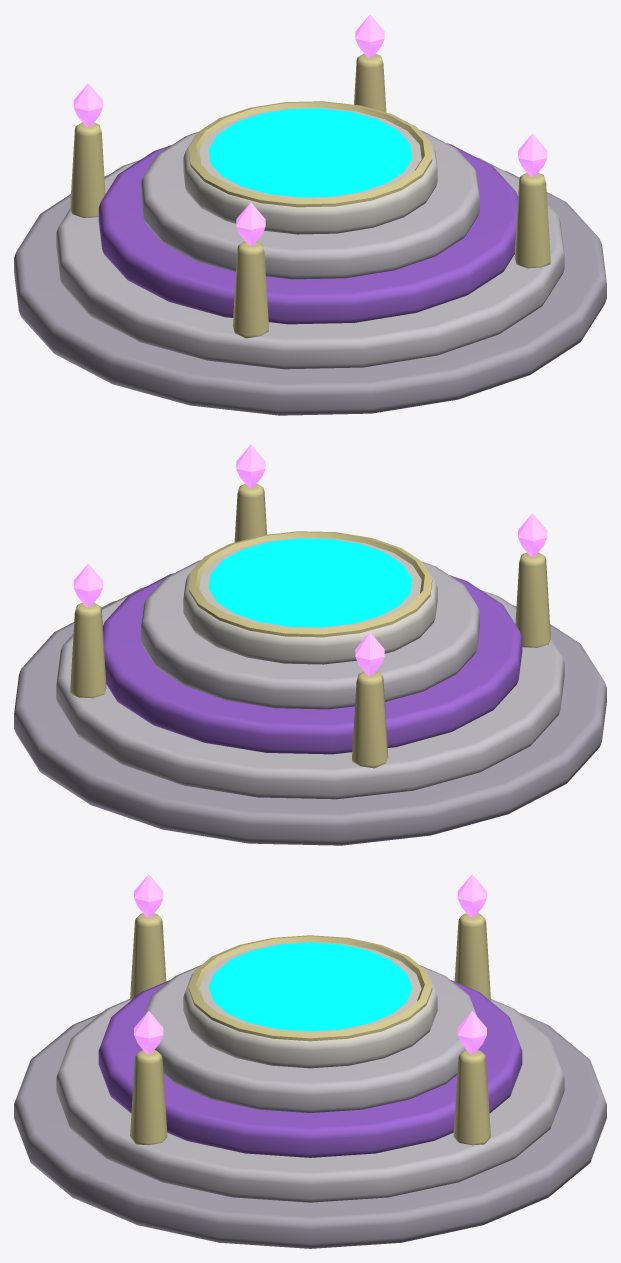
File: rebirthAltar.glb
The picture shows the model from 3 angles, top to bottom: view 1: azimuth 30°, elevation 25°; view 2: azimuth 150°, elevation 25°; view 3: azimuth 270°, elevation 25°; orthographic projection.
Parts seen in each view (by area): view 1: Body, Glow_00E5FF, Glow_7B2FF7; view 2: Body, Glow_00E5FF, Glow_7B2FF7; view 3: Body, Glow_00E5FF, Glow_7B2FF7.
Boxes of the visible parts, bbox=[...] form: Body: bbox=[14, 54, 606, 415]; Glow_00E5FF: bbox=[209, 108, 411, 197]; Glow_7B2FF7: bbox=[73, 14, 547, 245]; Body: bbox=[14, 484, 606, 845]; Glow_00E5FF: bbox=[209, 538, 411, 627]; Glow_7B2FF7: bbox=[73, 444, 547, 675]; Body: bbox=[14, 913, 606, 1248]; Glow_00E5FF: bbox=[209, 942, 411, 1031]; Glow_7B2FF7: bbox=[134, 874, 486, 1054].
Bounding box in the file's own units: 14 × 4.8 × 14.
